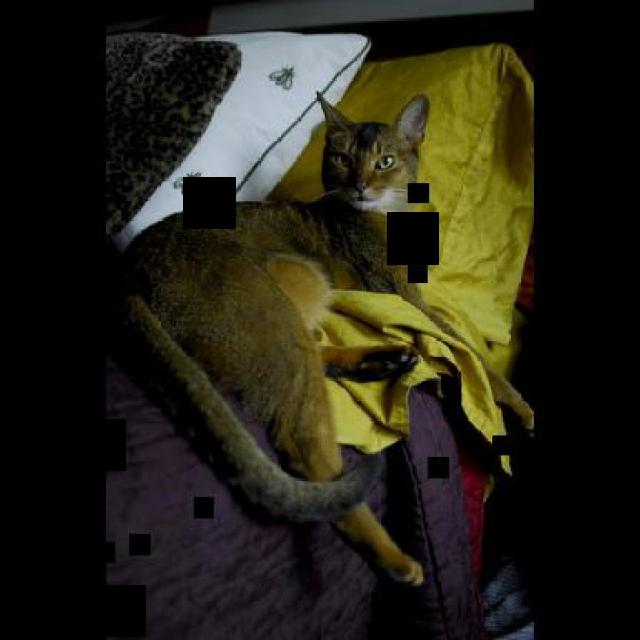unauthorized: (112, 89, 448, 589)
